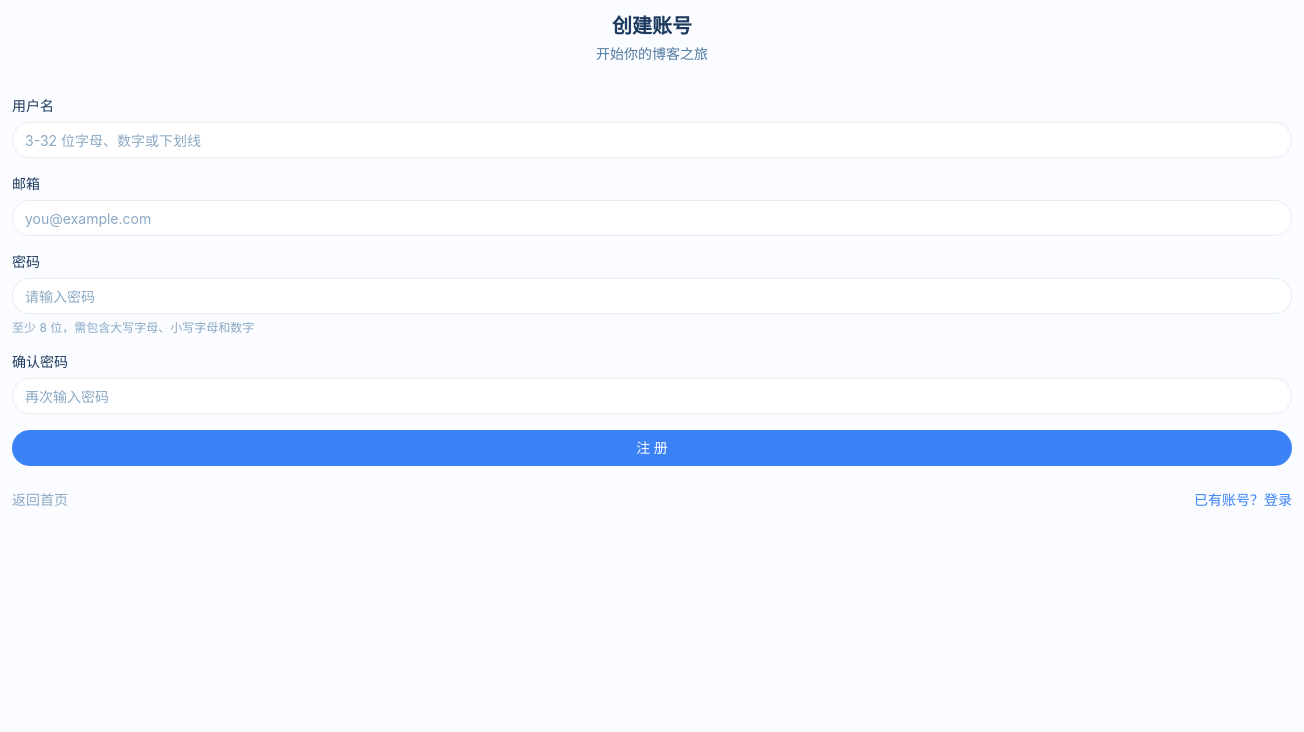
Scenario: RegisterPage › 用户名太短报错
Type "ab" into the field labelled "用户名" at (652, 140), box [12, 122, 1292, 158]
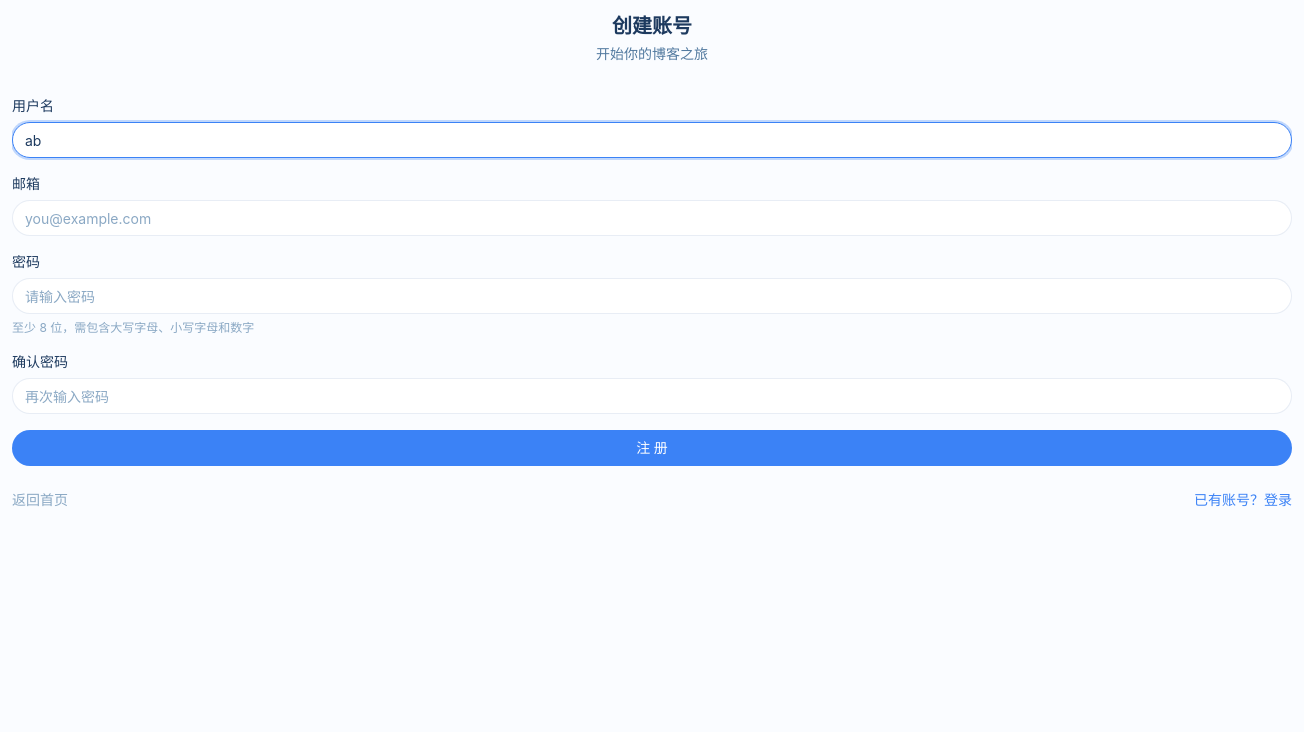
Click the button "注 册" at (652, 448), box [12, 430, 1292, 466]
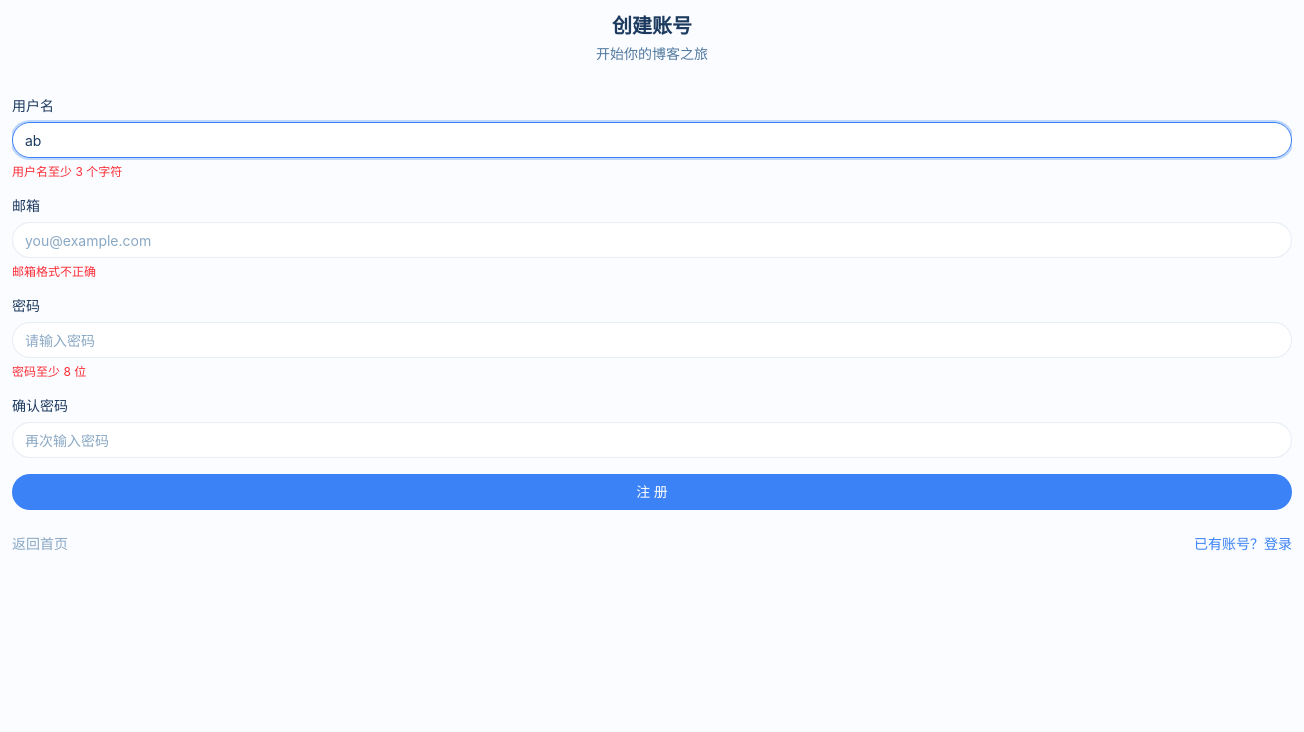
expect the text "用户名至少 3 个字符" is shown: met, box [12, 164, 122, 179]
